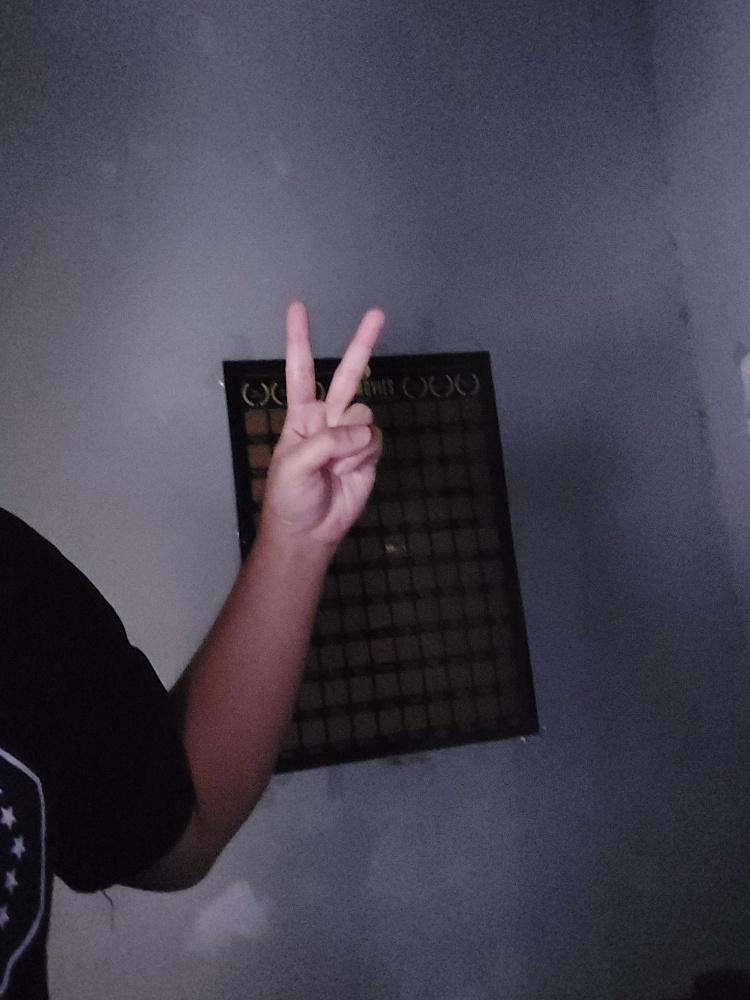v: (276, 299, 388, 547)
